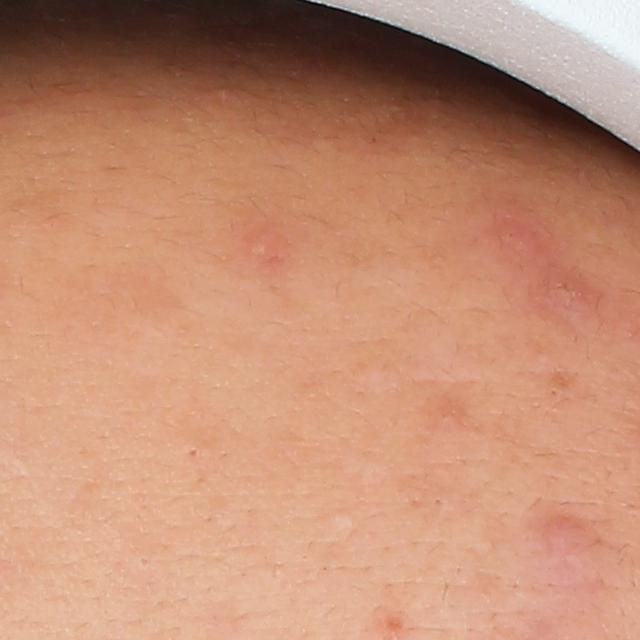comedo: (330, 508, 358, 534)
